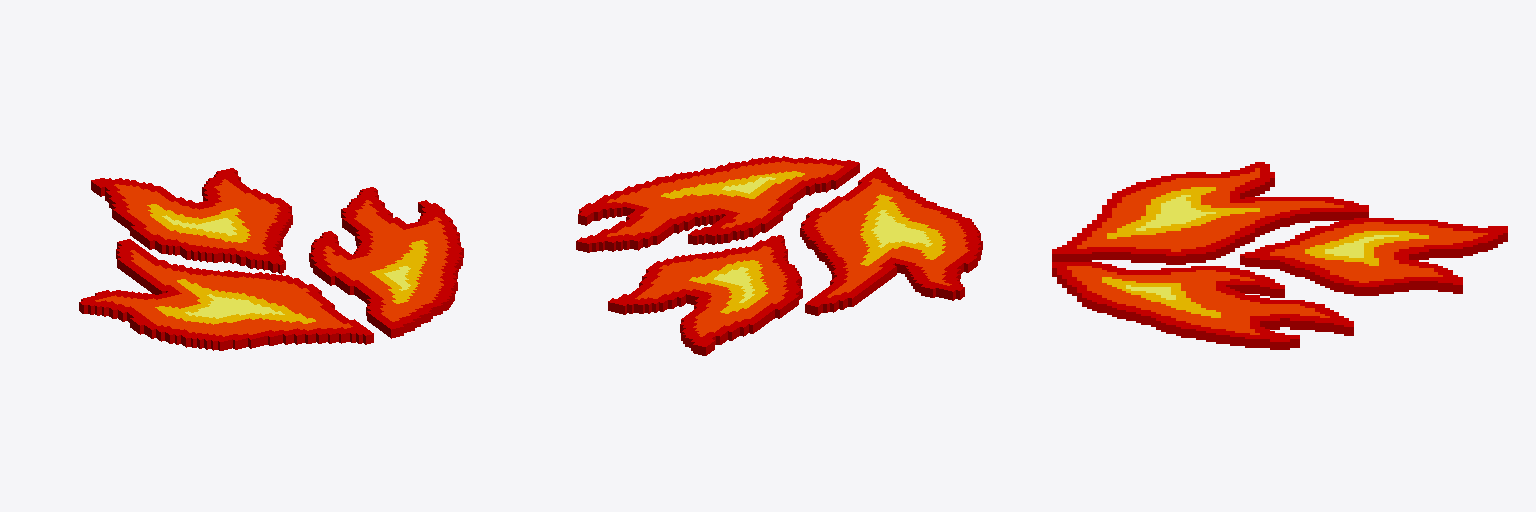
3 renders of one model, left to right at view 1: azimuth 30°, elevation 25°; view 2: azimuth 150°, elevation 25°; view 3: azimuth 270°, elevation 25°, orthographic.
Visible parts, largest first — view 1: object 1; view 2: object 1; view 3: object 1.
Boxes of the visible parts, <box> form: object 1: <box>79,168,463,350</box>; object 1: <box>576,156,982,355</box>; object 1: <box>1052,162,1507,349</box>.
Bounding box in the file's own units: 8.6 × 0.2 × 9.2.
1 materials, 1 textured.